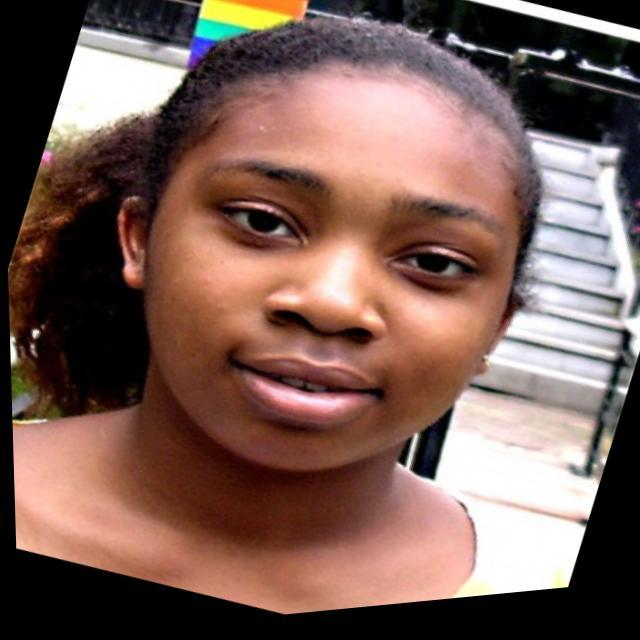Nonhelmet: (97, 12, 547, 477)
